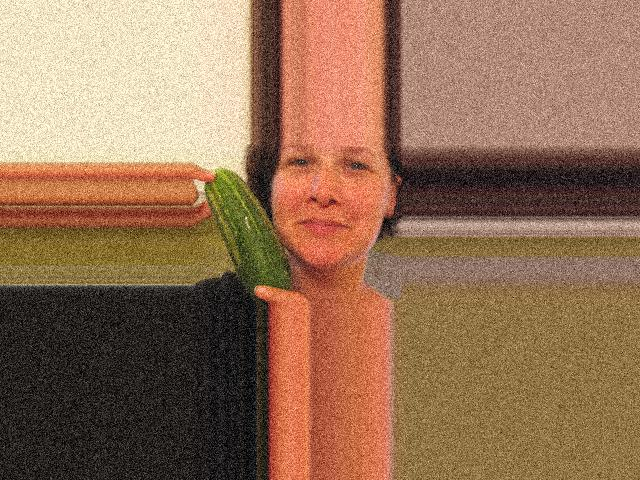cucumber: (205, 167, 292, 302)
